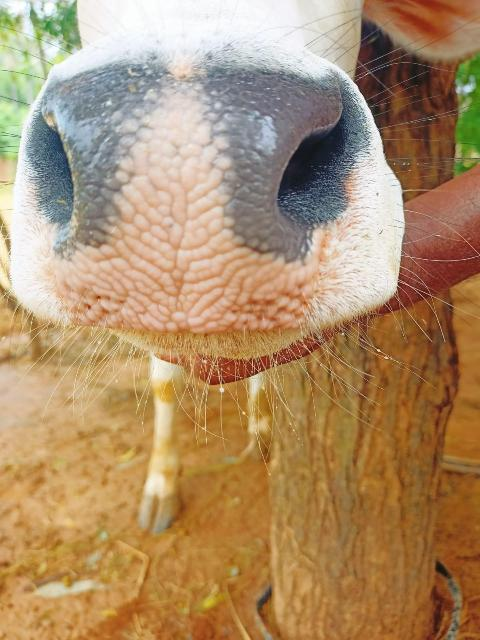Muzzle: (54, 72, 292, 328)
